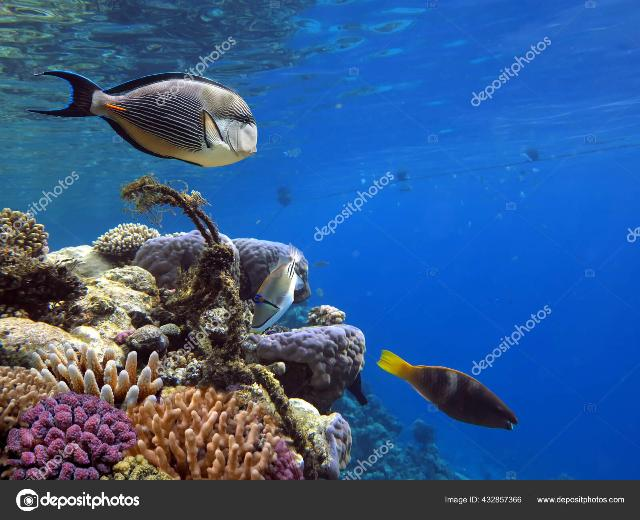Mulut: (490, 406, 534, 440), (241, 143, 267, 165)
Sirip Anal: (94, 106, 166, 161)
Sirip Dada: (196, 104, 228, 156)
Sirip Ekor: (15, 56, 105, 128), (367, 335, 417, 390)
Sirip Perut: (162, 148, 206, 174)
Sirip Punggung: (100, 68, 240, 102), (413, 360, 483, 386)
